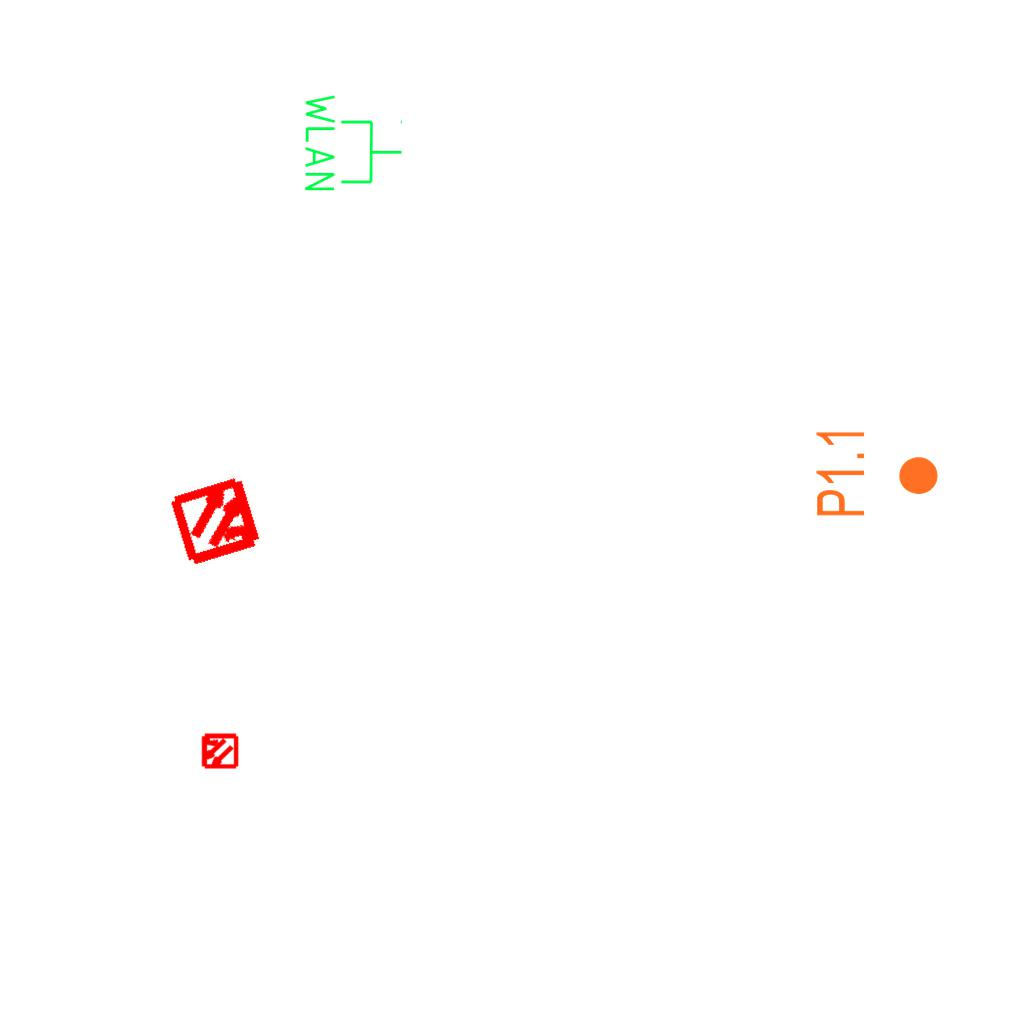Downlight_LED_Einbauleuchten_Flur: (813, 426, 941, 519)
OT_Multisensormelder_(Kombination_RMO_WMD): (146, 449, 289, 592), (191, 723, 247, 779)
WLAN: (301, 90, 405, 195)
